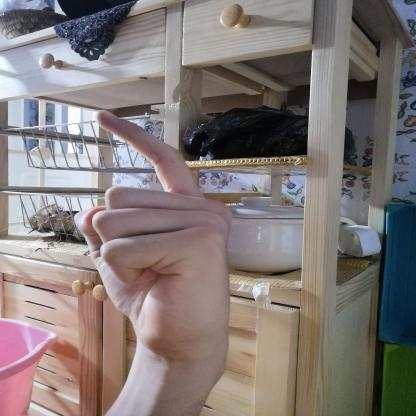RAA: (61, 100, 246, 369)
